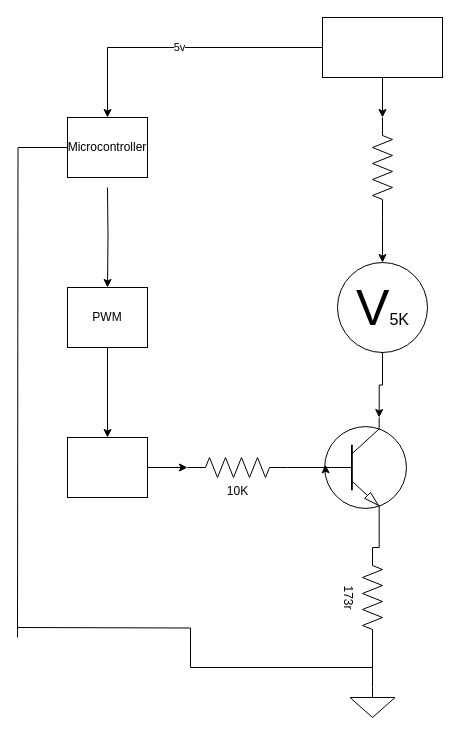
The diagram is 460 pixels wide and 735 high, and some of its shapes have lost their labels. The shapes that lost their labels are listed below. From the top down, each one's box as (x1, y1, x2, y2) in pixels, then its label:
(322, 16, 442, 78): 180V
(372, 116, 392, 218): 6.6K
(66, 436, 148, 498): RC Filter
